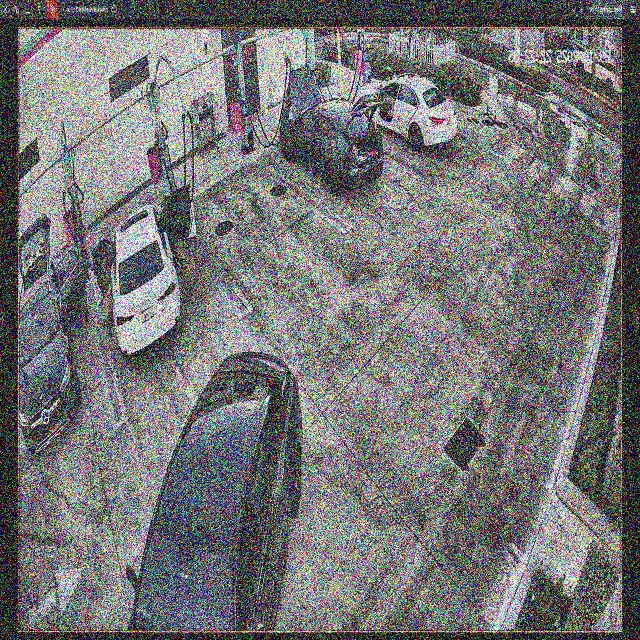Car: (125, 333, 311, 632), (92, 184, 195, 356), (280, 66, 384, 194), (353, 75, 457, 152)
